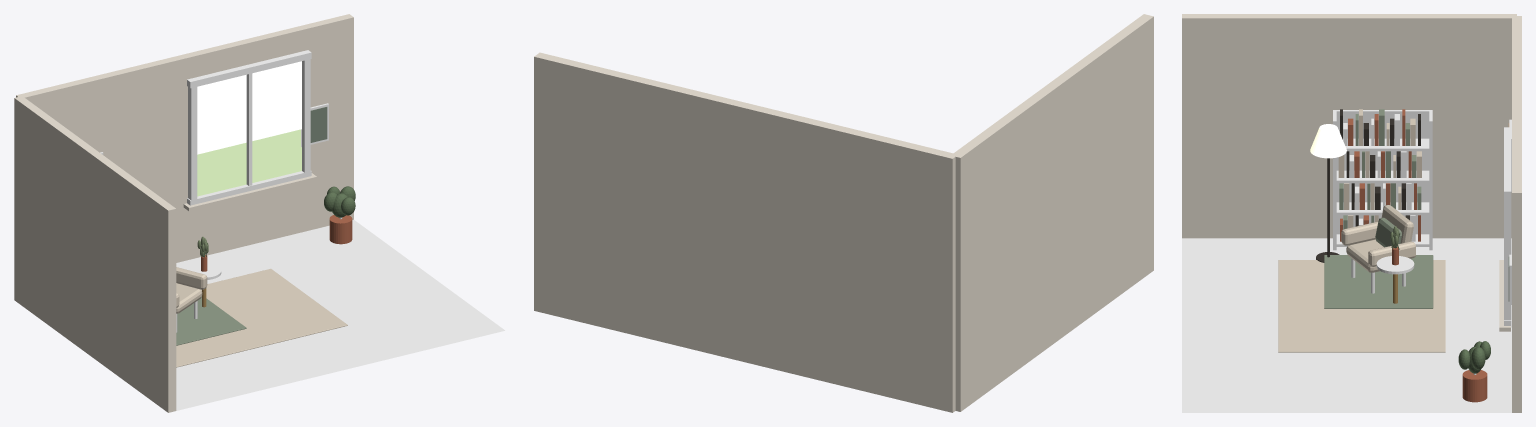
File: reading-nook.glb
3 views of the same model, side by side, from view 1: azimuth 30°, elevation 25°; view 2: azimuth 150°, elevation 25°; view 3: azimuth 270°, elevation 25° (orthographic). The views are drawn at different scales.
Parts seen in each view (by area): view 1: Side wall, Back wall, Floor, Rug, Window sky, Window outside, Chair throw, Window frame top, Window frame side, Window frame side.001, Window frame bottom, Window sill (+5 smaller); view 2: Back wall, Side wall; view 3: Side wall, Floor, Rug, Chair throw, Back wall, Shelf back, Lamp shade, Window frame side.001, Shelf shelf.002, Plant pot, Shelf shelf.001, Shelf shelf.003 (+10 smaller).
Part boxes in pixels (x1,y1,x2,y2): Side wall: (14, 96, 176, 412); Back wall: (16, 14, 353, 262); Floor: (176, 219, 504, 410); Rug: (176, 268, 347, 367); Window sky: (197, 61, 301, 154); Window outside: (197, 129, 301, 196); Chair throw: (176, 296, 246, 345); Window frame top: (187, 50, 311, 88); Window frame side: (188, 78, 197, 203); Window frame side.001: (301, 50, 310, 174); Window frame bottom: (187, 171, 311, 205); Window sill: (183, 173, 316, 211); Back wall: (534, 52, 957, 412); Side wall: (952, 14, 1153, 411); Side wall: (1182, 14, 1516, 238); Floor: (1182, 238, 1511, 412); Rug: (1278, 260, 1445, 352); Chair throw: (1324, 255, 1433, 308); Back wall: (1512, 16, 1521, 412); Shelf back: (1335, 110, 1430, 234); Lamp shade: (1310, 124, 1346, 158); Window frame side.001: (1504, 188, 1511, 319); Shelf shelf.002: (1335, 170, 1430, 183); Plant pot: (1462, 370, 1487, 402); Shelf shelf.001: (1335, 202, 1430, 215); Shelf shelf.003: (1343, 138, 1430, 151).
Bounding box in the file's own units: 5.06 × 2.9 × 4.06.
